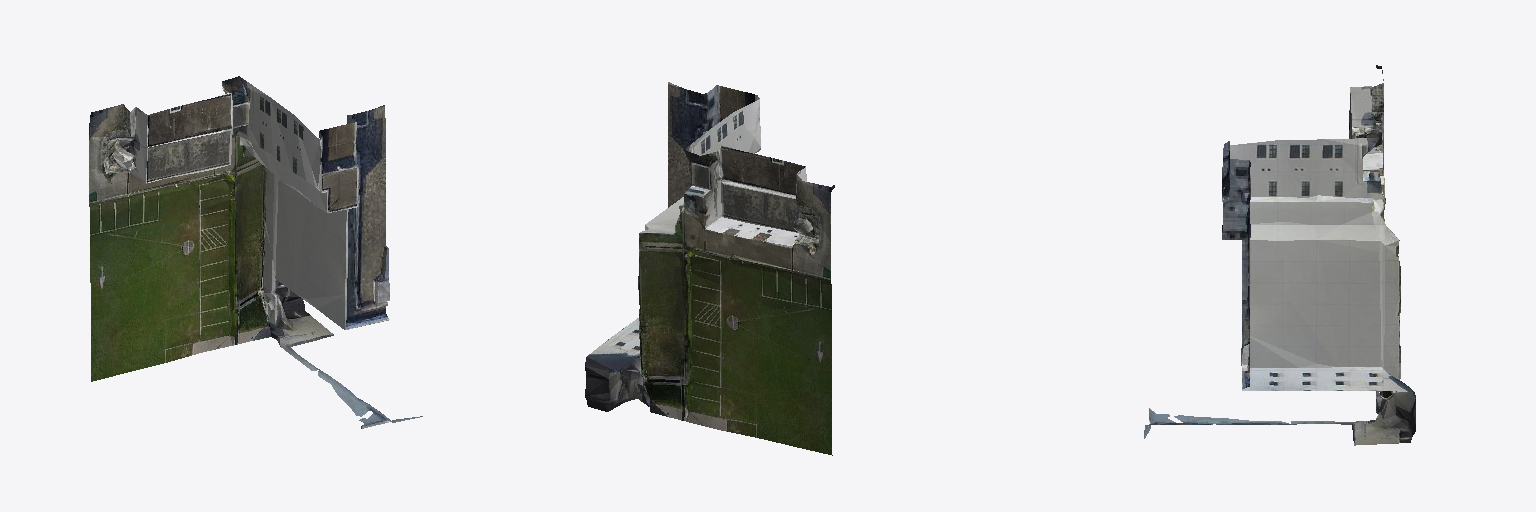
3 views of the same model, side by side, from view 1: azimuth 30°, elevation 25°; view 2: azimuth 150°, elevation 25°; view 3: azimuth 270°, elevation 25° (orthographic).
Visible parts, largest first — view 1: obj_0; view 2: obj_0; view 3: obj_0.
Boxes of the visible parts, <box> form: obj_0: <box>89,76,422,428</box>; obj_0: <box>585,82,834,455</box>; obj_0: <box>1144,65,1415,445</box>.
Size of the model in its own units: 40.15 by 45.06 by 41.35.
Materials: 1 (1 with a texture image).